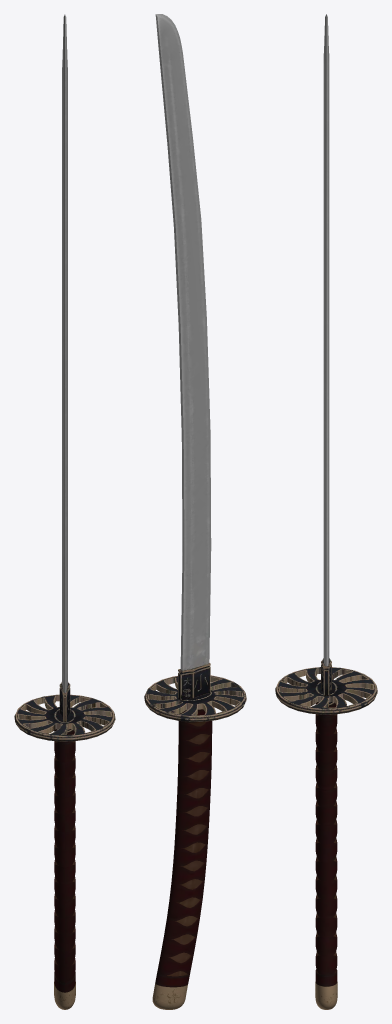
The model's file is antique_katana_01.glb.
The picture shows the model from 3 angles, left to right: view 1: azimuth 90°, elevation 25°; view 2: azimuth 210°, elevation 25°; view 3: azimuth 270°, elevation 25°; orthographic projection.
Visible parts, largest first — view 1: antique_katana_01; view 2: antique_katana_01; view 3: antique_katana_01.
Part boxes in pixels (left/top/right/bottom): antique_katana_01: left=14, top=14, right=115, bottom=1009; antique_katana_01: left=144, top=14, right=246, bottom=1009; antique_katana_01: left=275, top=14, right=377, bottom=1009.
Size of the model in its own units: 0.0934 by 1 by 0.0934.
1 material, 1 textured.
